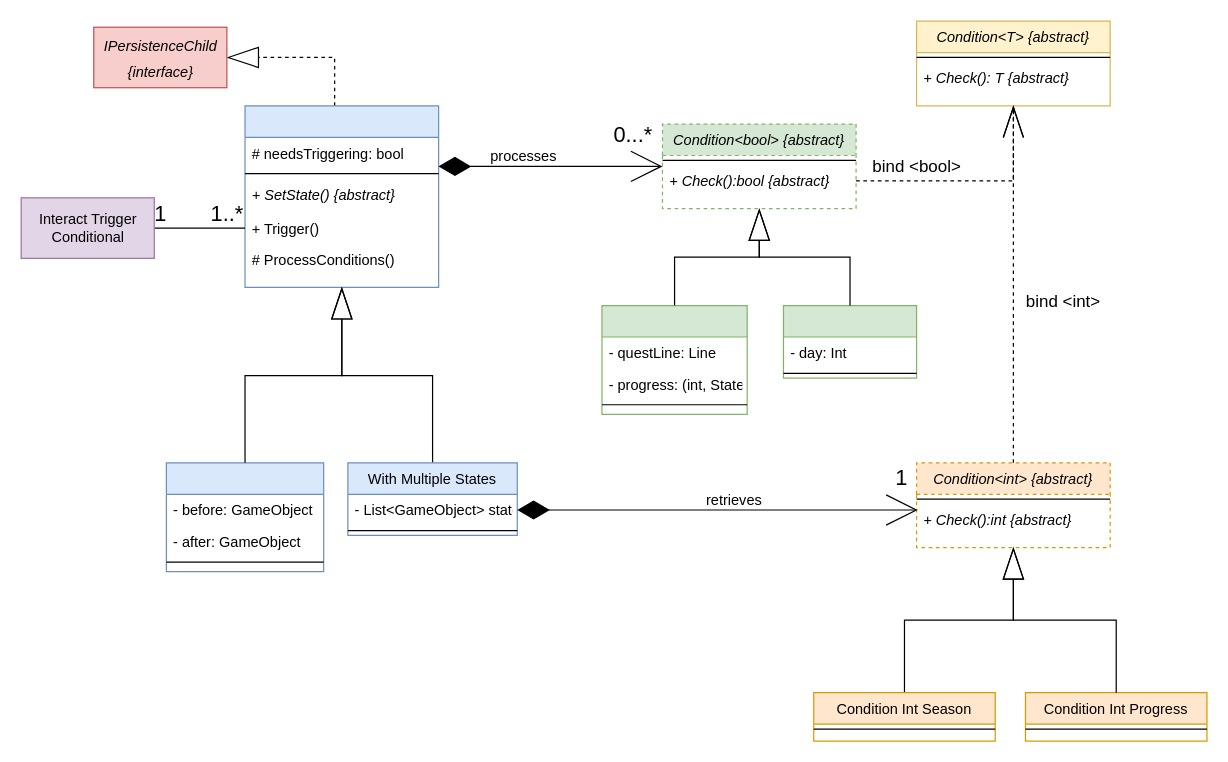
Some shapes in this 1228 by 762 pixel diagram are drawn without their labels. Each missing label, with the box of its shape:
Condition Progress: (601, 304, 747, 414)
Condition Weekday: (782, 304, 917, 378)
Conditional {abstract}: (244, 105, 439, 287)
With Two States: (165, 462, 324, 572)
